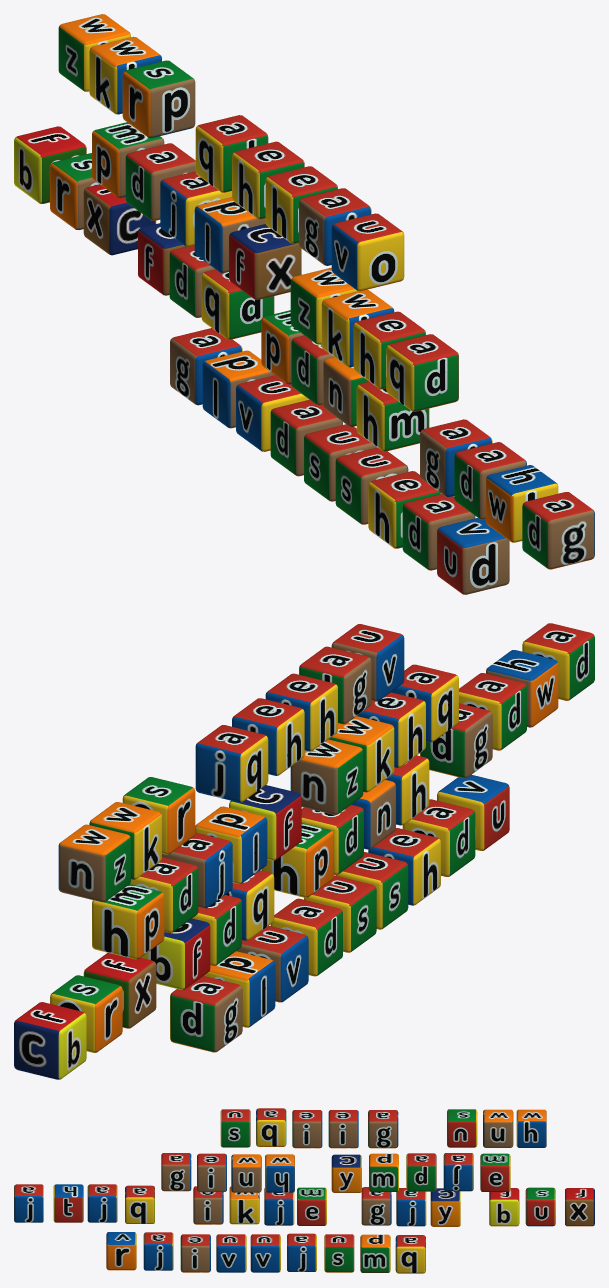
The model's file is letters5.glb.
3 views of the same model, one above another, from view 1: azimuth 30°, elevation 25°; view 2: azimuth 150°, elevation 25°; view 3: azimuth 270°, elevation 25° (orthographic). The views are drawn at different scales.
Visible parts, largest first — view 1: who3, needs5, when4, data4, dissapear9, magic5, make4, can3, data3, needs, you, you3 (+28 smaller); view 2: needs, who, you, dissapear, magic, when, data, make, needs2, you2, data4, can (+28 smaller); view 3: you2, data2, dissapear2, dissapear5, dissapear8, dissapear9, data3, who, needs4, needs5, dissapear6, who3 (+28 smaller).
Boxes of the visible parts, x1=… form: who3: x1=122, y1=60, x2=195, y2=138; needs5: x1=331, y1=213, x2=404, y2=291; when4: x1=386, y1=334, x2=458, y2=411; data4: x1=522, y1=492, x2=594, y2=569; dissapear9: x1=437, y1=518, x2=509, y2=594; magic5: x1=229, y1=224, x2=301, y2=299; make4: x1=356, y1=381, x2=429, y2=451; can3: x1=201, y1=269, x2=274, y2=339; data3: x1=486, y1=465, x2=558, y2=542; needs: x1=195, y1=115, x2=268, y2=192; you: x1=14, y1=126, x2=86, y2=203; you3: x1=83, y1=184, x2=156, y2=255; needs: x1=195, y1=725, x2=268, y2=802; who: x1=58, y1=824, x2=130, y2=902; you: x1=14, y1=1002, x2=86, y2=1079; dissapear: x1=170, y1=976, x2=242, y2=1052; magic: x1=92, y1=884, x2=164, y2=959; when: x1=290, y1=739, x2=363, y2=814; data: x1=420, y1=703, x2=492, y2=778; make: x1=261, y1=823, x2=333, y2=897; needs2: x1=232, y1=698, x2=304, y2=775; you2: x1=50, y1=975, x2=122, y2=1052; data4: x1=522, y1=623, x2=594, y2=700; can: x1=141, y1=918, x2=210, y2=989; you2: x1=525, y1=1187, x2=555, y2=1226; data2: x1=87, y1=1184, x2=117, y2=1222; dissapear2: x1=360, y1=1234, x2=390, y2=1272; dissapear5: x1=250, y1=1234, x2=280, y2=1272; dissapear8: x1=143, y1=1232, x2=173, y2=1270; dissapear9: x1=106, y1=1232, x2=136, y2=1270; data3: x1=53, y1=1184, x2=83, y2=1222; who: x1=516, y1=1109, x2=546, y2=1147; needs4: x1=256, y1=1108, x2=286, y2=1146; needs5: x1=220, y1=1109, x2=250, y2=1147; dissapear6: x1=216, y1=1234, x2=246, y2=1272; who3: x1=447, y1=1109, x2=477, y2=1147.
Size of the model in its own units: 0.1658 by 0.934 by 3.19.
Materials: 5 (5 with a texture image).
